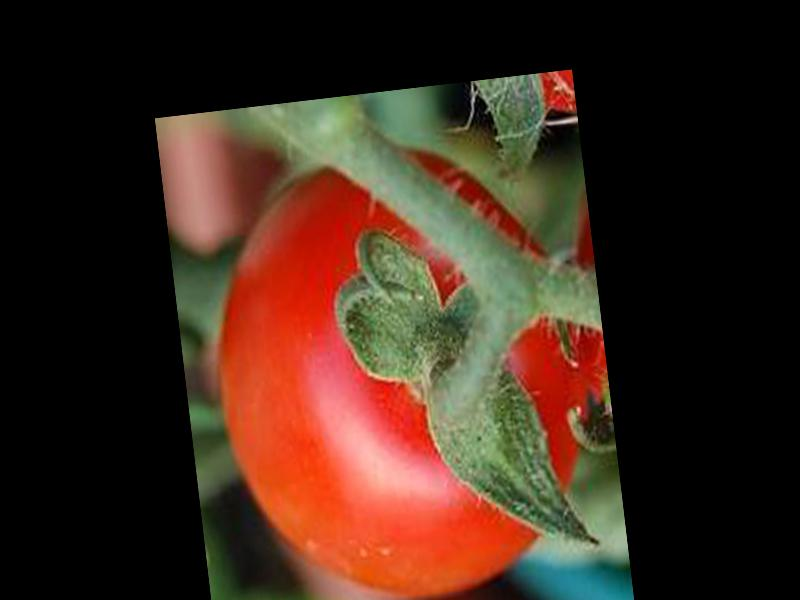Tomato: (196, 125, 621, 600)
